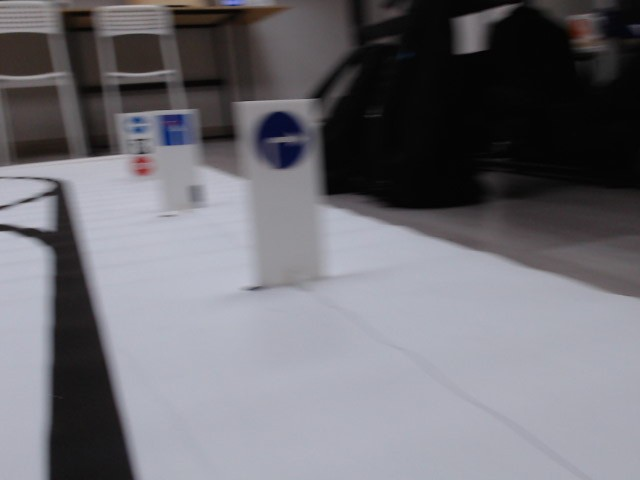Right: (253, 110, 310, 170)
priority_movement: (157, 113, 197, 148)
